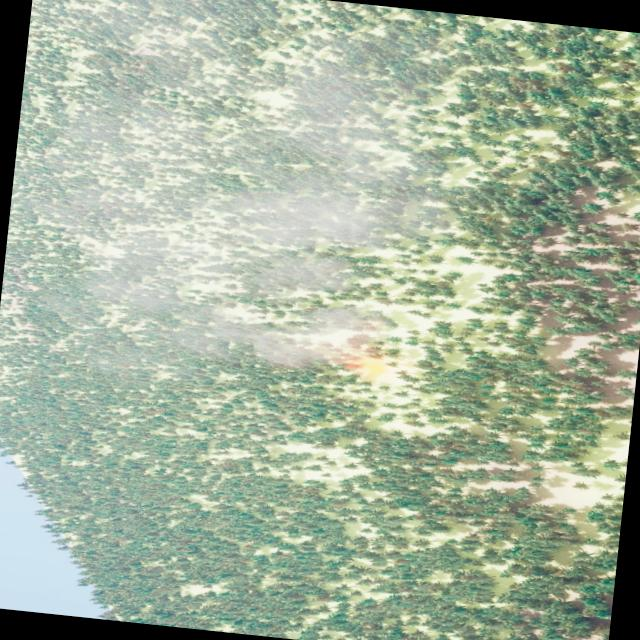fire: (340, 351, 386, 383)
smoke: (11, 0, 464, 399)
